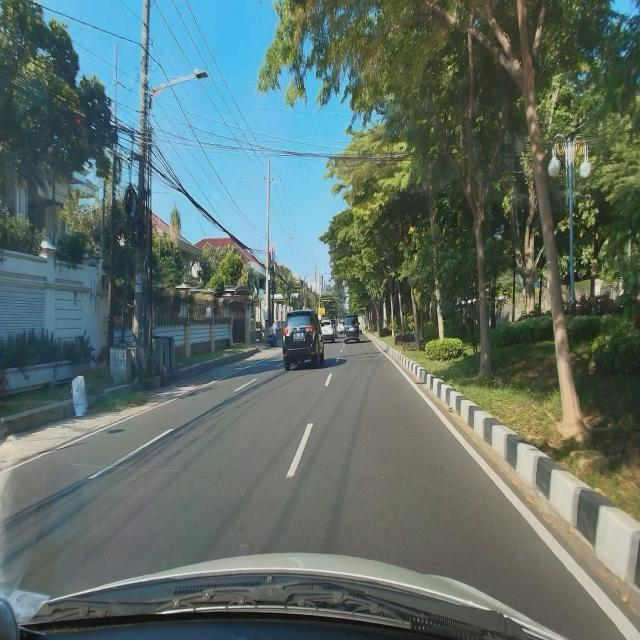car: (283, 309, 324, 372)
license-plate: (294, 332, 304, 340)
